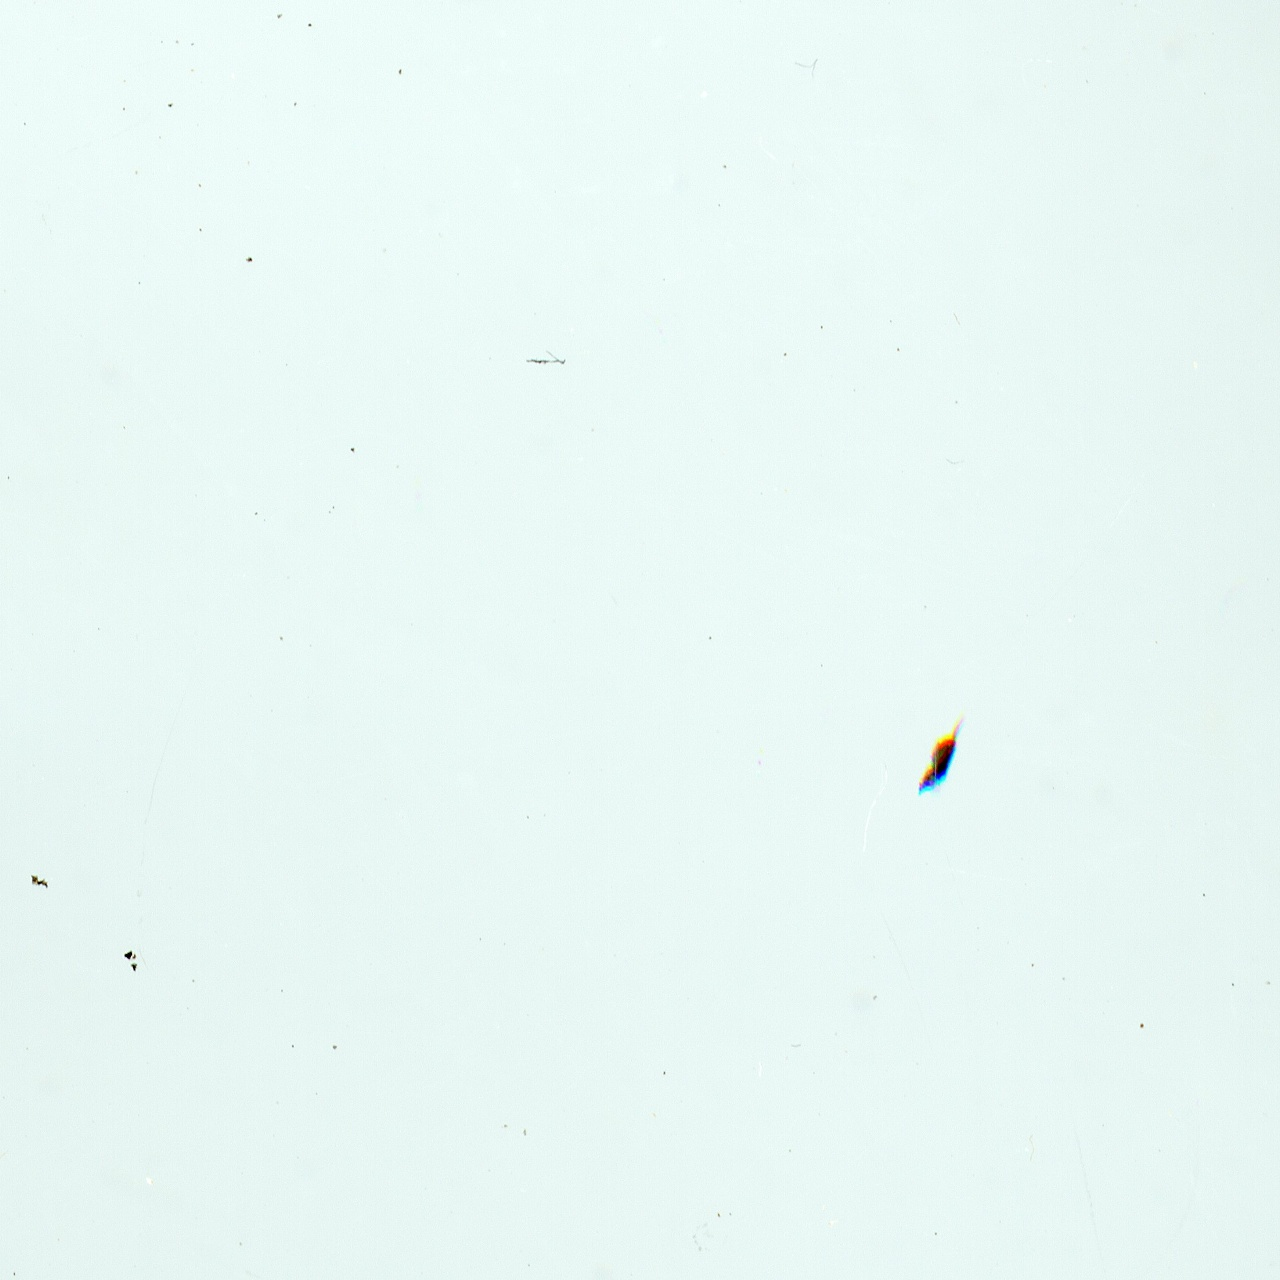arthropod: (916, 713, 964, 804)
